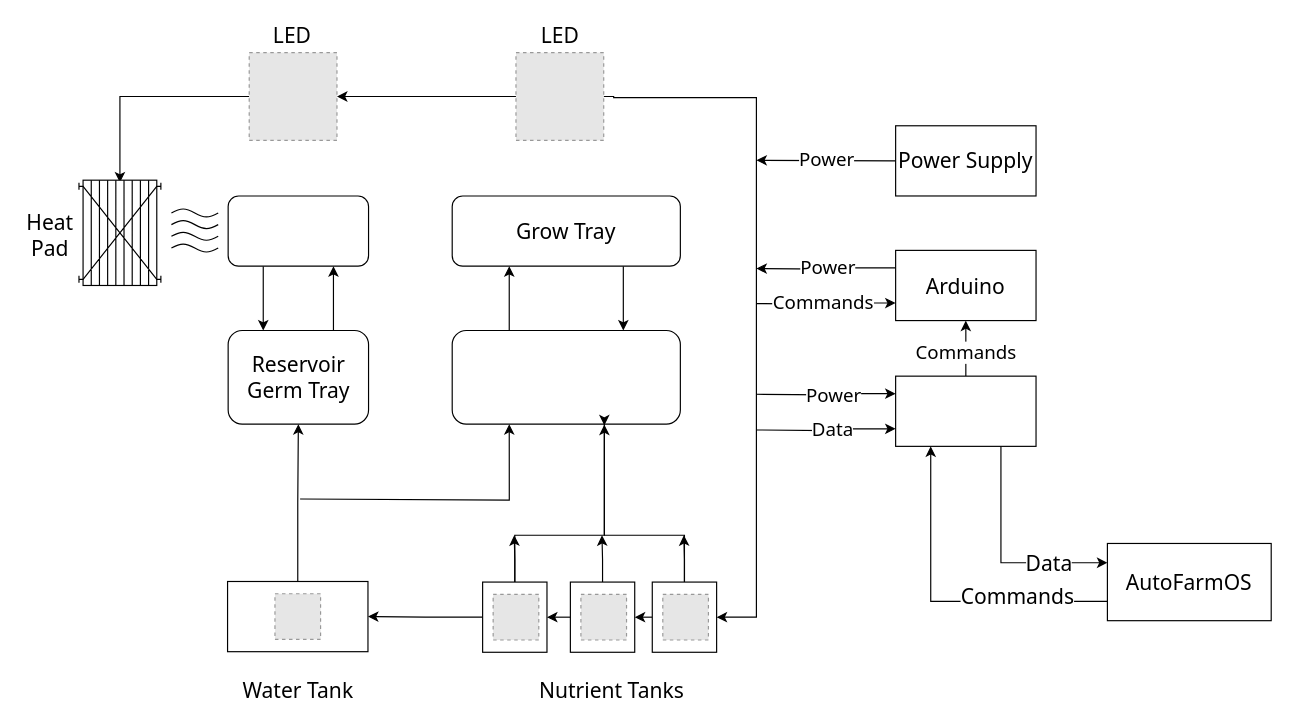
Image size: 1292x724. Some labels were removed from this diagram. Grey dashed boxes stand in for pictures. Each missing label, with the centre of its shape:
"Germ Tray" goes at point 298,230.
"Raspberry Pi" goes at point 965,410.
"Reservoir Grow Tray" goes at point 565,376.
